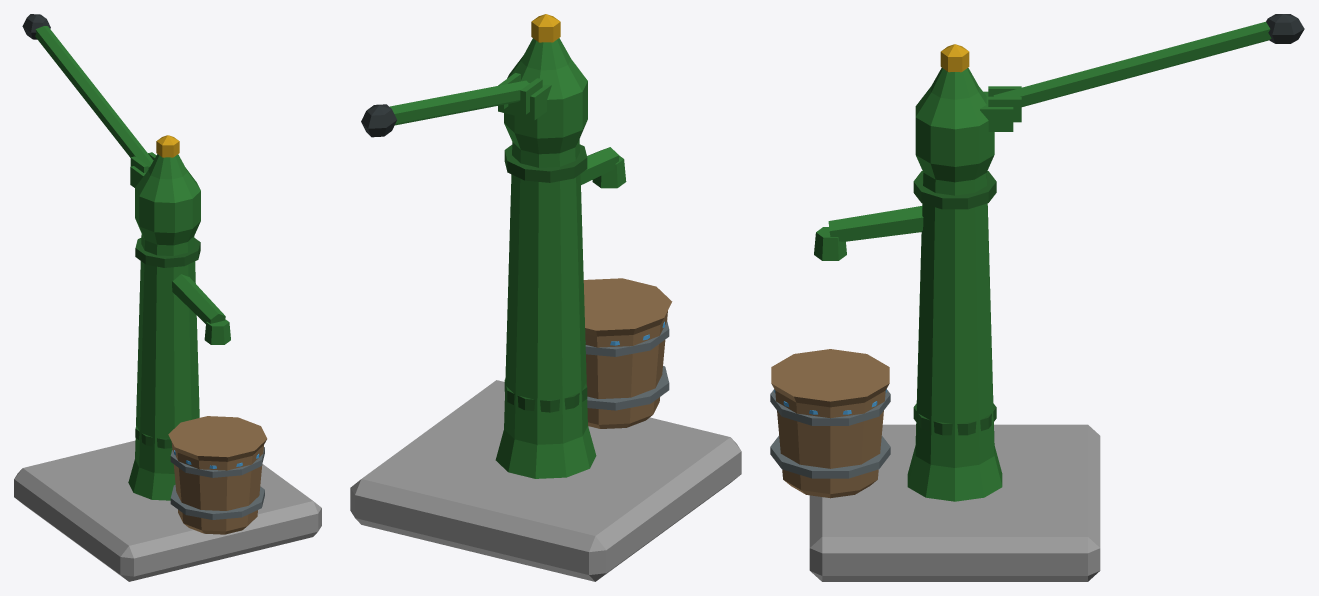
Rendered from schwengelpumpe.glb.
3 views of the same model, side by side, from view 1: azimuth 30°, elevation 25°; view 2: azimuth 150°, elevation 25°; view 3: azimuth 270°, elevation 25° (orthographic). The views are drawn at different scales.
Parts seen in each view (by area): view 1: schwengelpumpe-m, schwengel-m; view 2: schwengelpumpe-m, schwengel-m; view 3: schwengelpumpe-m, schwengel-m.
Part boxes in pixels (box(x1,y1,x2,y2)): schwengelpumpe-m: box(14, 135, 321, 581); schwengel-m: box(22, 14, 156, 172); schwengelpumpe-m: box(350, 14, 741, 581); schwengel-m: box(361, 73, 542, 137); schwengelpumpe-m: box(770, 44, 1100, 581); schwengel-m: box(988, 14, 1304, 122).
Size of the model in its own units: 0.7 by 1.36 by 1.29.
